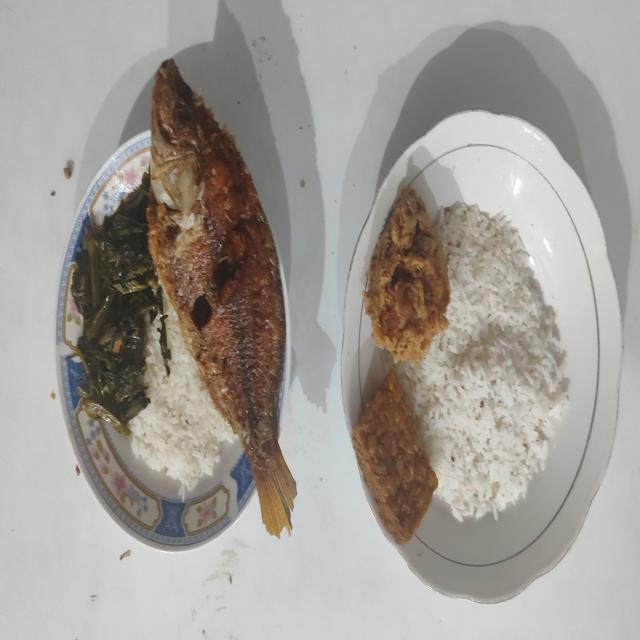ikan_mujair: (146, 59, 296, 537)
nasi_putih: (397, 202, 569, 520), (129, 290, 238, 490)
tempe_goreng: (352, 370, 438, 544)
tumis_kangkung: (71, 172, 162, 436)
